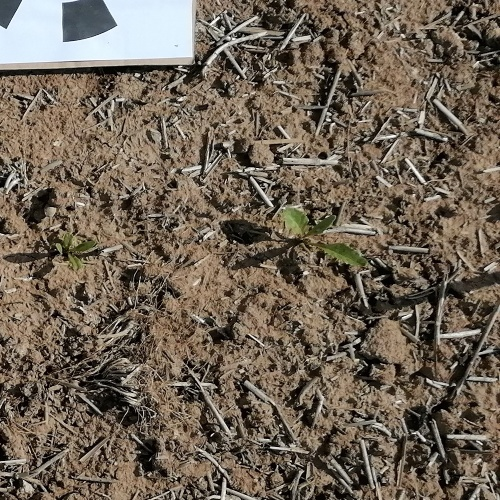beet: (279, 206, 372, 272), (59, 231, 97, 270)
